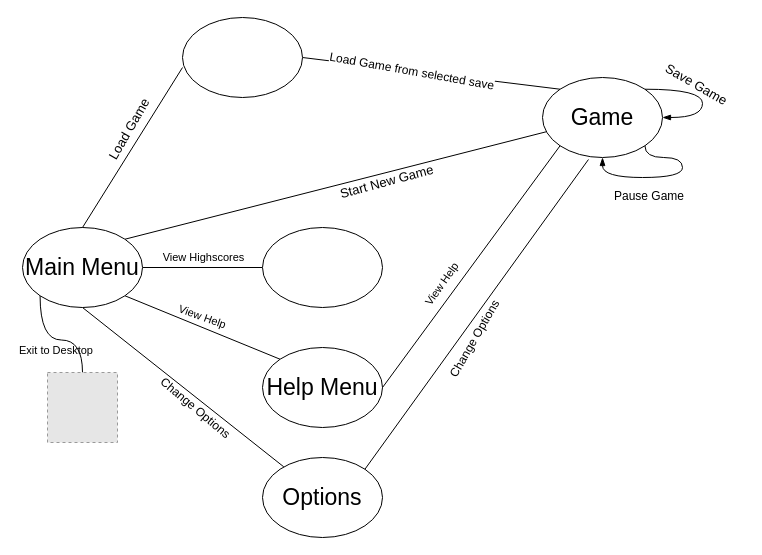
This 762x555 diagram has some shape labels left out. Grey dashed boxes stand in for pictures. Each missing label, with the centre of its shape:
"HighScores" belongs at [322,267].
"Load Screen" belongs at [242,57].
